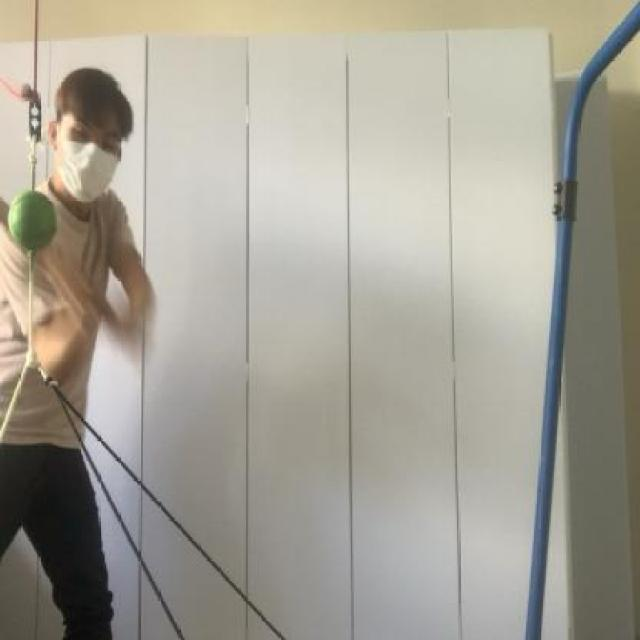baseball: (0, 178, 71, 262)
